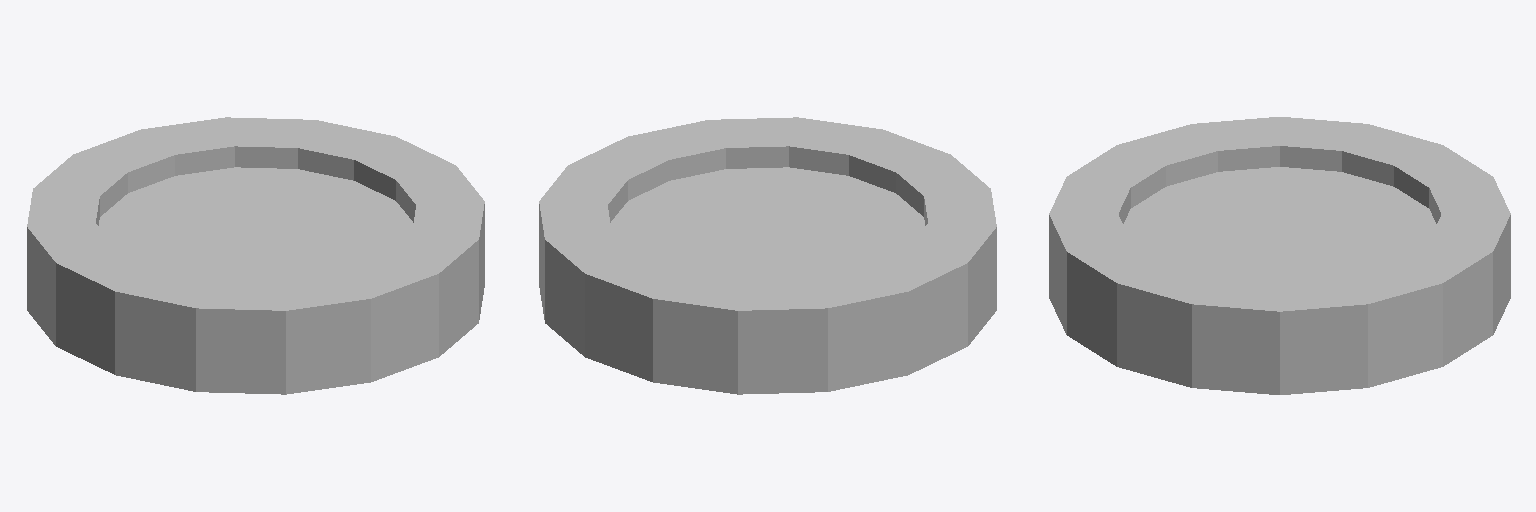
File: coin.obj
3 views of the same model, side by side, from view 1: azimuth 30°, elevation 25°; view 2: azimuth 150°, elevation 25°; view 3: azimuth 270°, elevation 25° (orthographic).
Visible parts, largest first — view 1: coin_Cube.007; view 2: coin_Cube.007; view 3: coin_Cube.007.
Boxes of the visible parts, <box> form: coin_Cube.007: <box>27,117,484,394</box>; coin_Cube.007: <box>539,117,996,394</box>; coin_Cube.007: <box>1049,117,1510,394</box>.
Bounding box in the file's own units: 1 × 0.2 × 1.